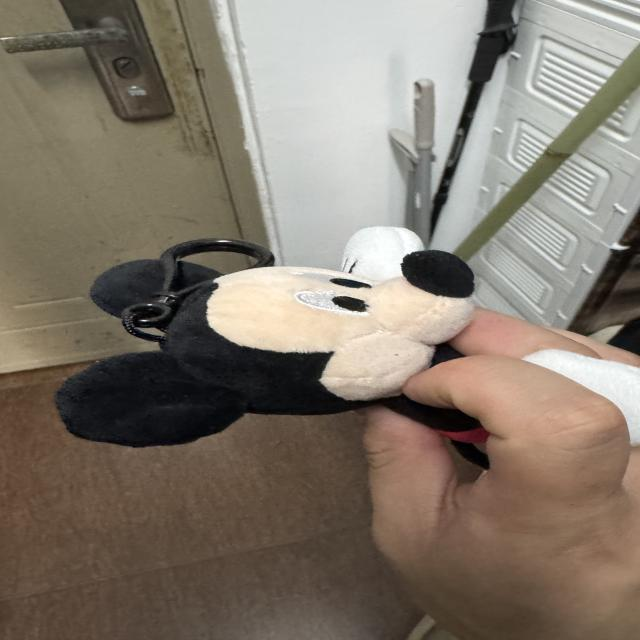mickey: (58, 228, 487, 467), (58, 241, 479, 446)
